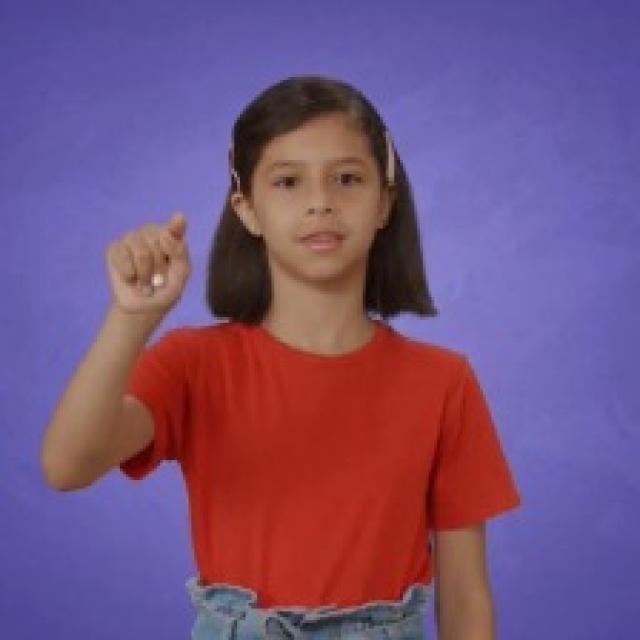you: (101, 208, 196, 309)
